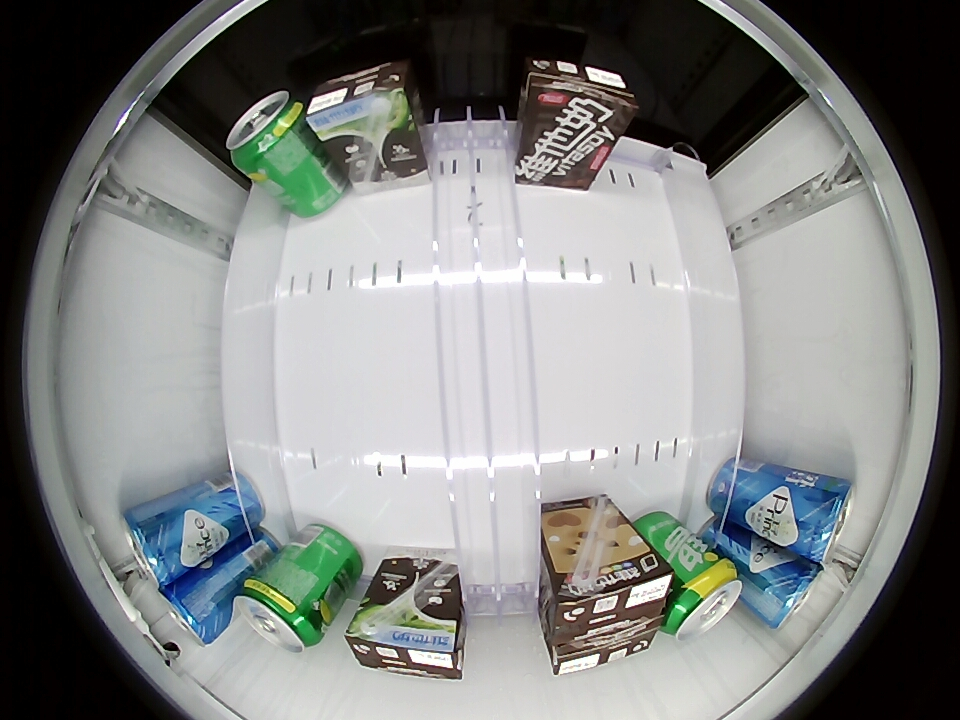qingdaowangzi-2: (792, 475, 855, 563), (752, 556, 824, 629), (122, 505, 185, 588), (157, 576, 229, 645)
weitanai2: (553, 551, 672, 641), (522, 58, 636, 141), (306, 62, 415, 143), (344, 608, 465, 680), (548, 622, 660, 676)
xuebi2: (234, 575, 327, 653), (226, 90, 310, 172), (662, 559, 743, 640)
